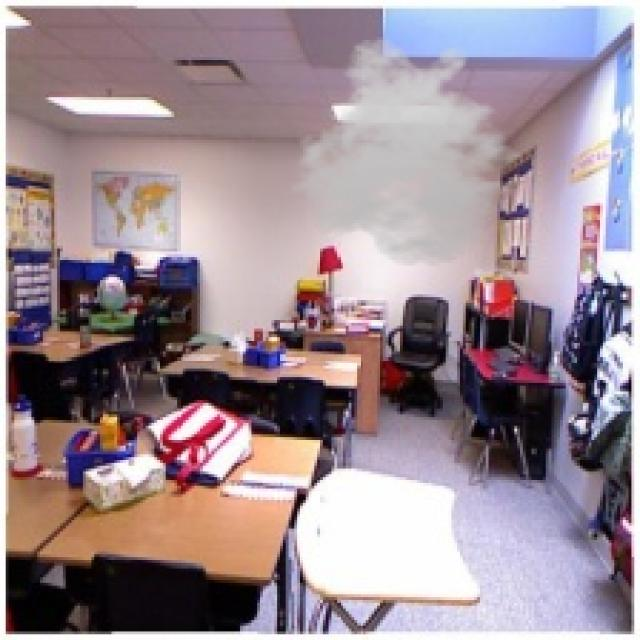smoke: (289, 37, 537, 269)
